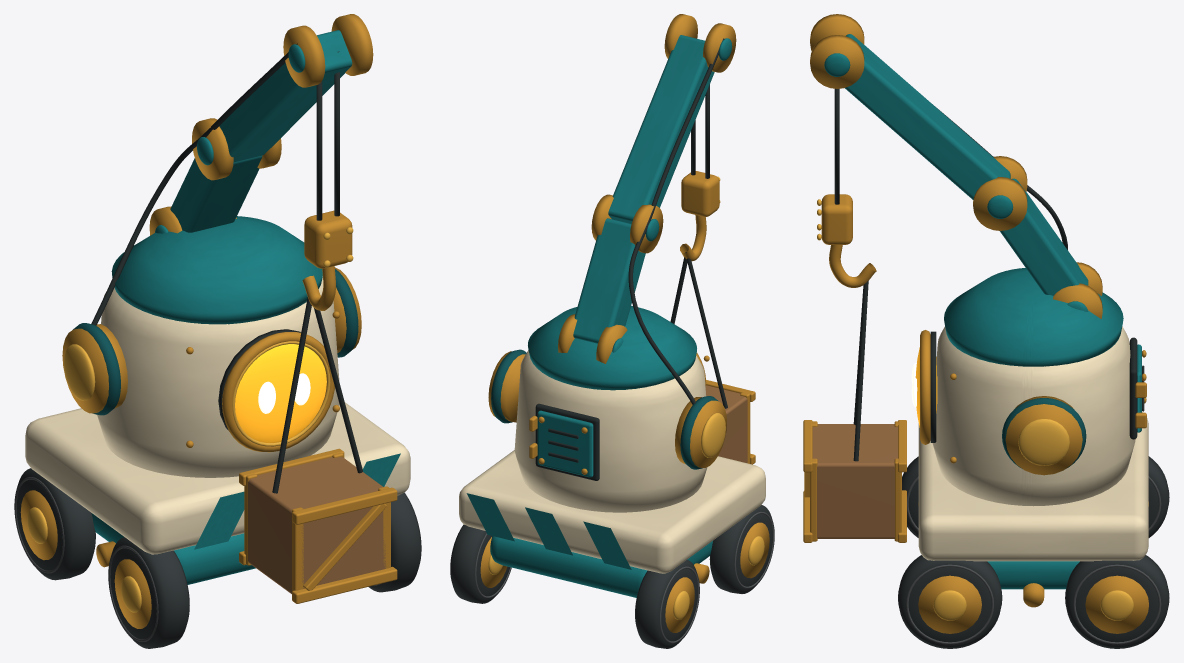
3 renders of one model, left to right at view 1: azimuth 30°, elevation 25°; view 2: azimuth 150°, elevation 25°; view 3: azimuth 270°, elevation 25°, orthographic. The views are drawn at different scales.
Visible parts, largest first — view 1: body__robot_cream, body__robot_teal, crane__robot_brass, payload__robot_wood, crane__robot_teal, payload__robot_brass, head__robot_amber, wheel_fl, wheel_bl, crane__robot_ink, head__robot_brass, wheel_fr (+8 smaller); view 2: body__robot_cream, body__robot_teal, crane__robot_teal, crane__robot_brass, wheel_bl, wheel_fl, wheel_br, crane__robot_ink, payload__robot_wood, crane__robot_teal_dark, body__robot_ink, payload__robot_ink (+6 smaller); view 3: body__robot_cream, body__robot_teal, crane__robot_teal, crane__robot_brass, payload__robot_wood, wheel_br, wheel_fr, payload__robot_brass, wheel_fr_hub, wheel_br_hub, crane__robot_gold, wheel_bl (+8 smaller).
Boxes of the visible parts, x1,y1,x2,y2 form: body__robot_cream: (25,276,410,554); body__robot_teal: (91,216,400,584); crane__robot_brass: (62,14,373,413); payload__robot_wood: (248,457,387,593); crane__robot_teal: (155,30,352,233); payload__robot_brass: (239,448,397,603); head__robot_amber: (235,344,326,442); wheel_fl: (108,537,189,648); wheel_bl: (14,468,95,580); crane__robot_ink: (91,43,339,325); head__robot_brass: (222,332,334,452); wheel_fr: (368,492,421,592); body__robot_cream: (459,350,765,573); body__robot_teal: (466,306,712,597); crane__robot_teal: (573,35,732,352); crane__robot_brass: (488,14,736,467); wheel_bl: (635,560,699,648); wheel_fl: (709,505,774,593); wheel_br: (450,524,511,603); crane__robot_ink: (628,38,724,404); payload__robot_wood: (705,385,747,462); crane__robot_teal_dark: (491,349,718,469); body__robot_ink: (535,403,599,480); payload__robot_ink: (670,252,727,408); body__robot_cream: (918,326,1148,561); body__robot_teal: (944,268,1141,589); crane__robot_teal: (824,34,1088,311); crane__robot_brass: (810,14,1102,475); payload__robot_wood: (812,424,897,538); wheel_br: (1065,555,1169,648); wheel_fr: (898,555,1002,648); payload__robot_brass: (803,420,906,542); wheel_fr_hub: (918,575,981,633); wheel_br_hub: (1085,575,1148,633); crane__robot_gold: (817,199,1069,465); wheel_bl: (1148,456,1169,537).
Bounding box in the file's own units: 0.682 × 1.5 × 0.876.
Materials: 11 (2 with a texture image).
